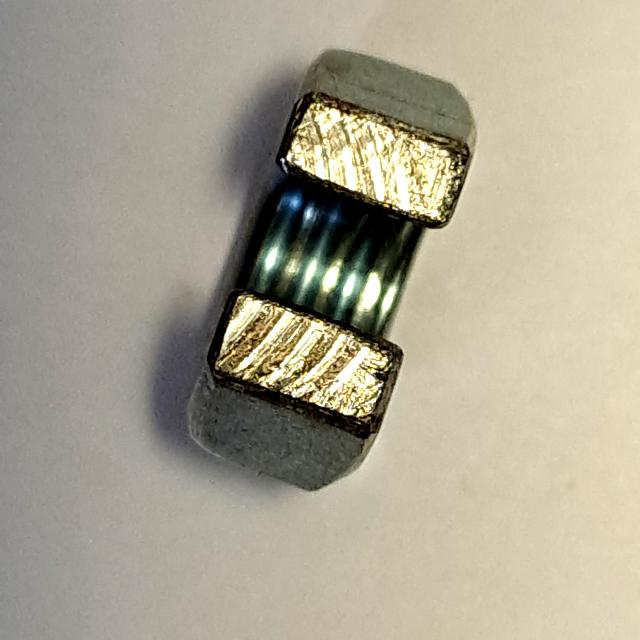Side-Fracture: (164, 34, 496, 506)
